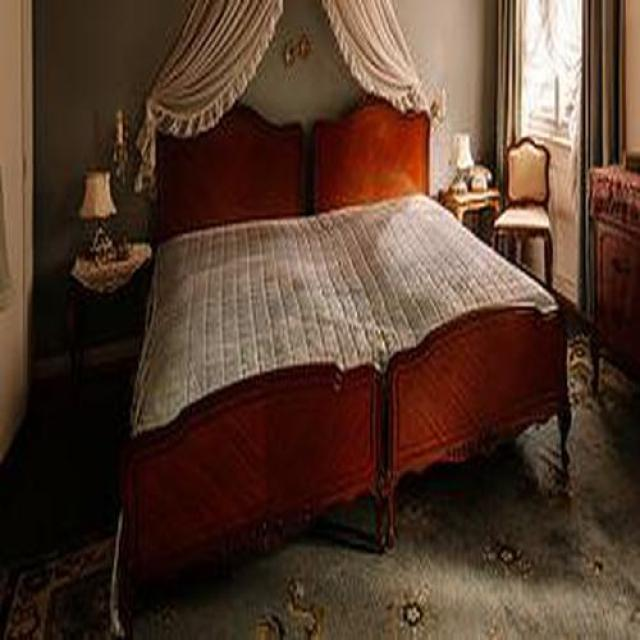bed: (119, 105, 571, 582)
